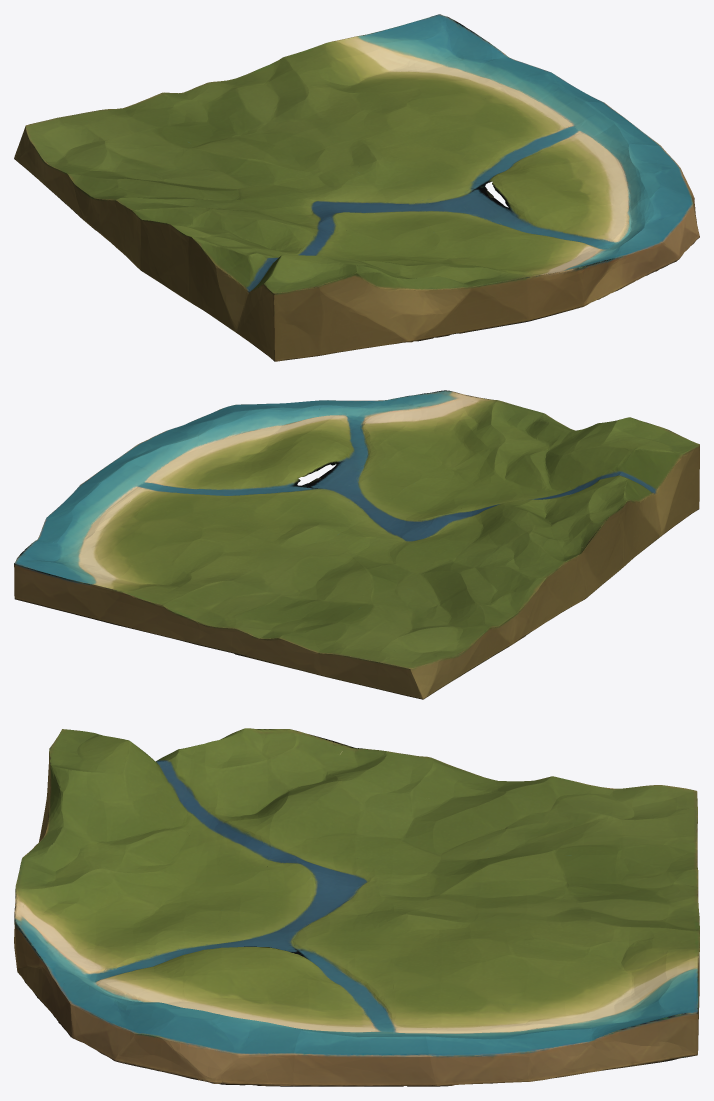
The picture shows the model from 3 angles, top to bottom: view 1: azimuth 30°, elevation 25°; view 2: azimuth 150°, elevation 25°; view 3: azimuth 270°, elevation 25°; orthographic projection. The views are drawn at different scales.
Visible parts, largest first — view 1: world; view 2: world; view 3: world.
Part boxes in pixels (bbox=[...]): world: bbox=[14, 14, 699, 361]; world: bbox=[14, 390, 699, 699]; world: bbox=[14, 728, 699, 1086].
Bounding box in the file's own units: 28.93 × 4.43 × 30.
Materials: 1 (1 with a texture image).
